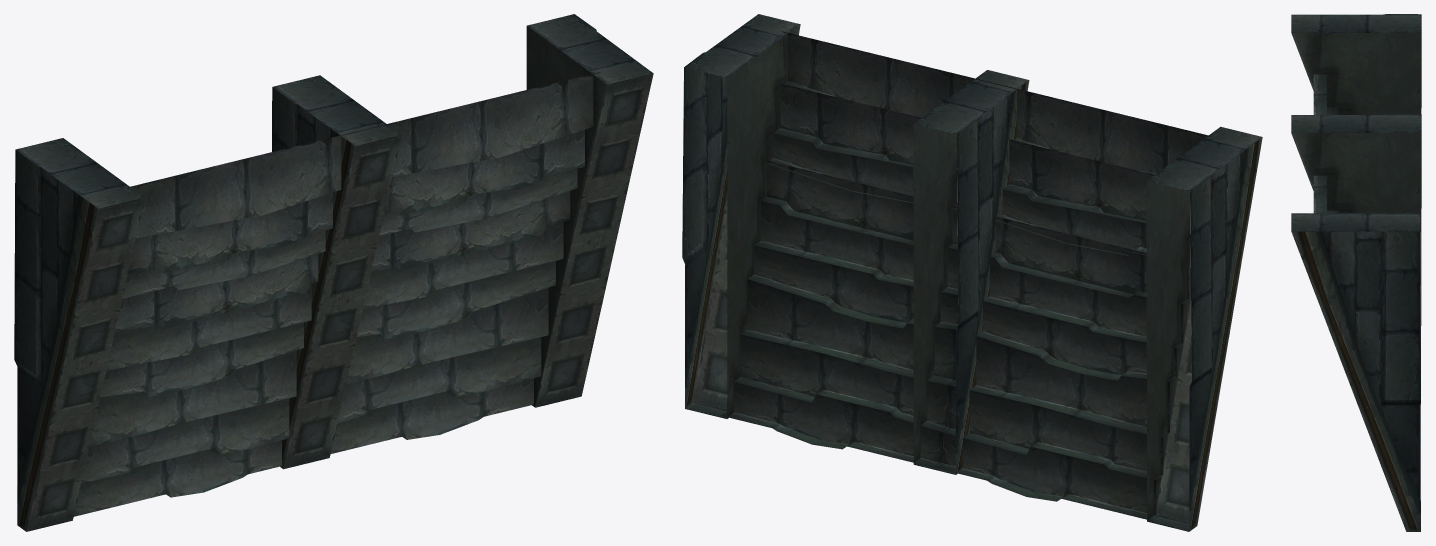
The model's file is shenjie_fuben_01_louti_5.obj.
3 renders of one model, left to right at view 1: azimuth 30°, elevation 25°; view 2: azimuth 150°, elevation 25°; view 3: azimuth 270°, elevation 25°, orthographic. The views are drawn at different scales.
Parts seen in each view (by area): view 1: shenjie_fuben_01_louti; view 2: shenjie_fuben_01_louti; view 3: shenjie_fuben_01_louti.
Part boxes in pixels (left/top/right/bottom): shenjie_fuben_01_louti: left=14, top=14, right=653, bottom=531; shenjie_fuben_01_louti: left=682, top=14, right=1262, bottom=531; shenjie_fuben_01_louti: left=1291, top=14, right=1421, bottom=531.
Size of the model in its own units: 683 by 444 by 172.
1 material, 1 textured.
